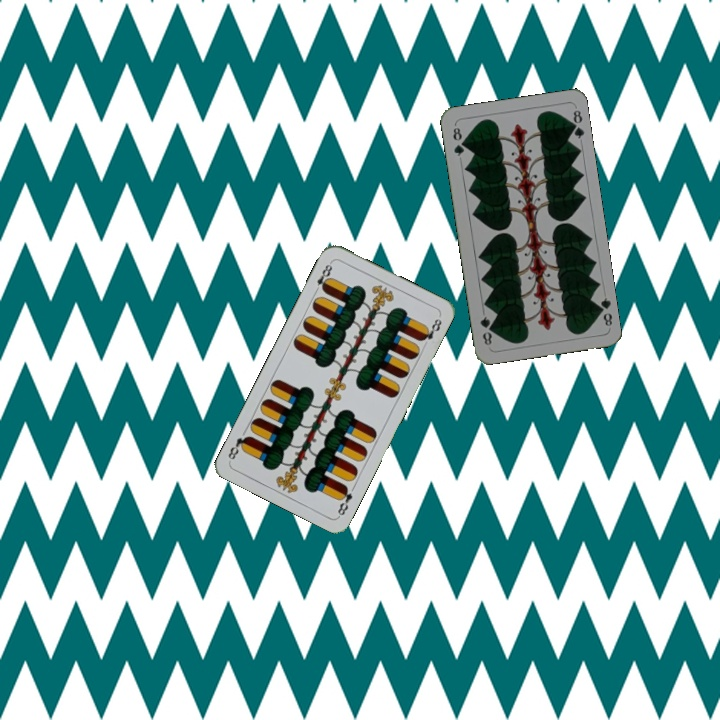E8: (310, 258, 335, 295), (333, 481, 355, 519)
G8: (593, 293, 615, 329), (449, 123, 467, 159)
